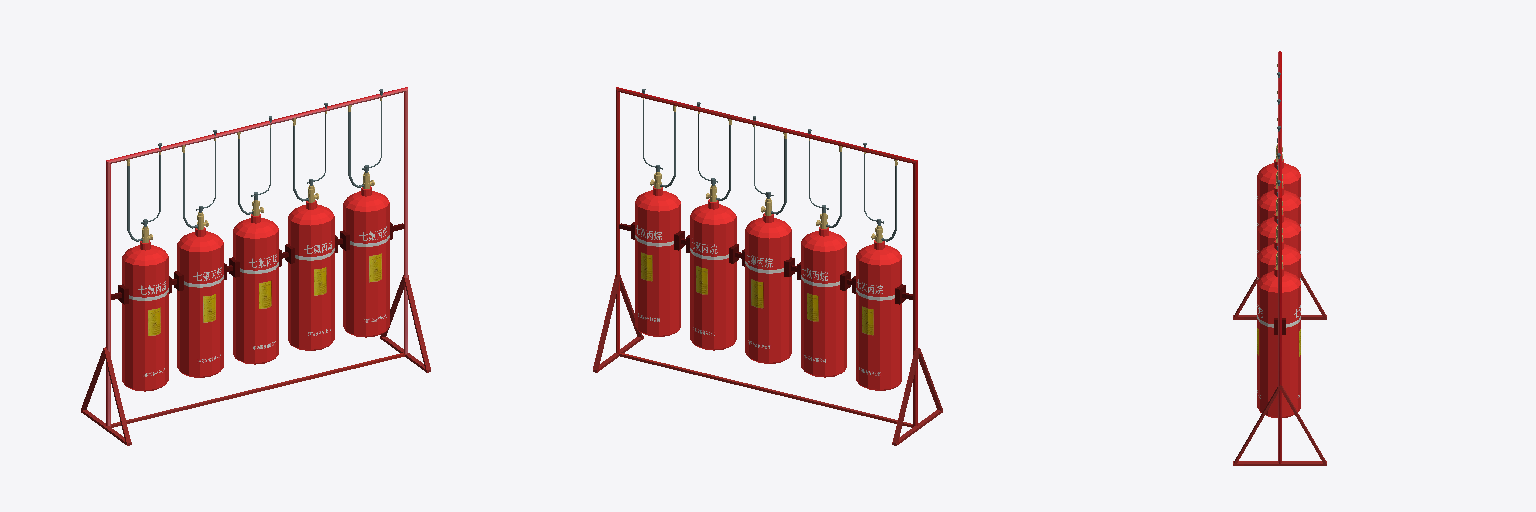
3 renders of one model, left to right at view 1: azimuth 30°, elevation 25°; view 2: azimuth 150°, elevation 25°; view 3: azimuth 270°, elevation 25°, orthographic.
Parts seen in each view (by area): view 1: OilTank002; view 2: OilTank002; view 3: OilTank002.
Boxes of the visible parts, <box> form: OilTank002: <box>81,87,430,445</box>; OilTank002: <box>593,87,942,445</box>; OilTank002: <box>1233,51,1326,465</box>.
Size of the model in its own units: 2 by 1.71 by 0.532.
1 materials, 1 textured.